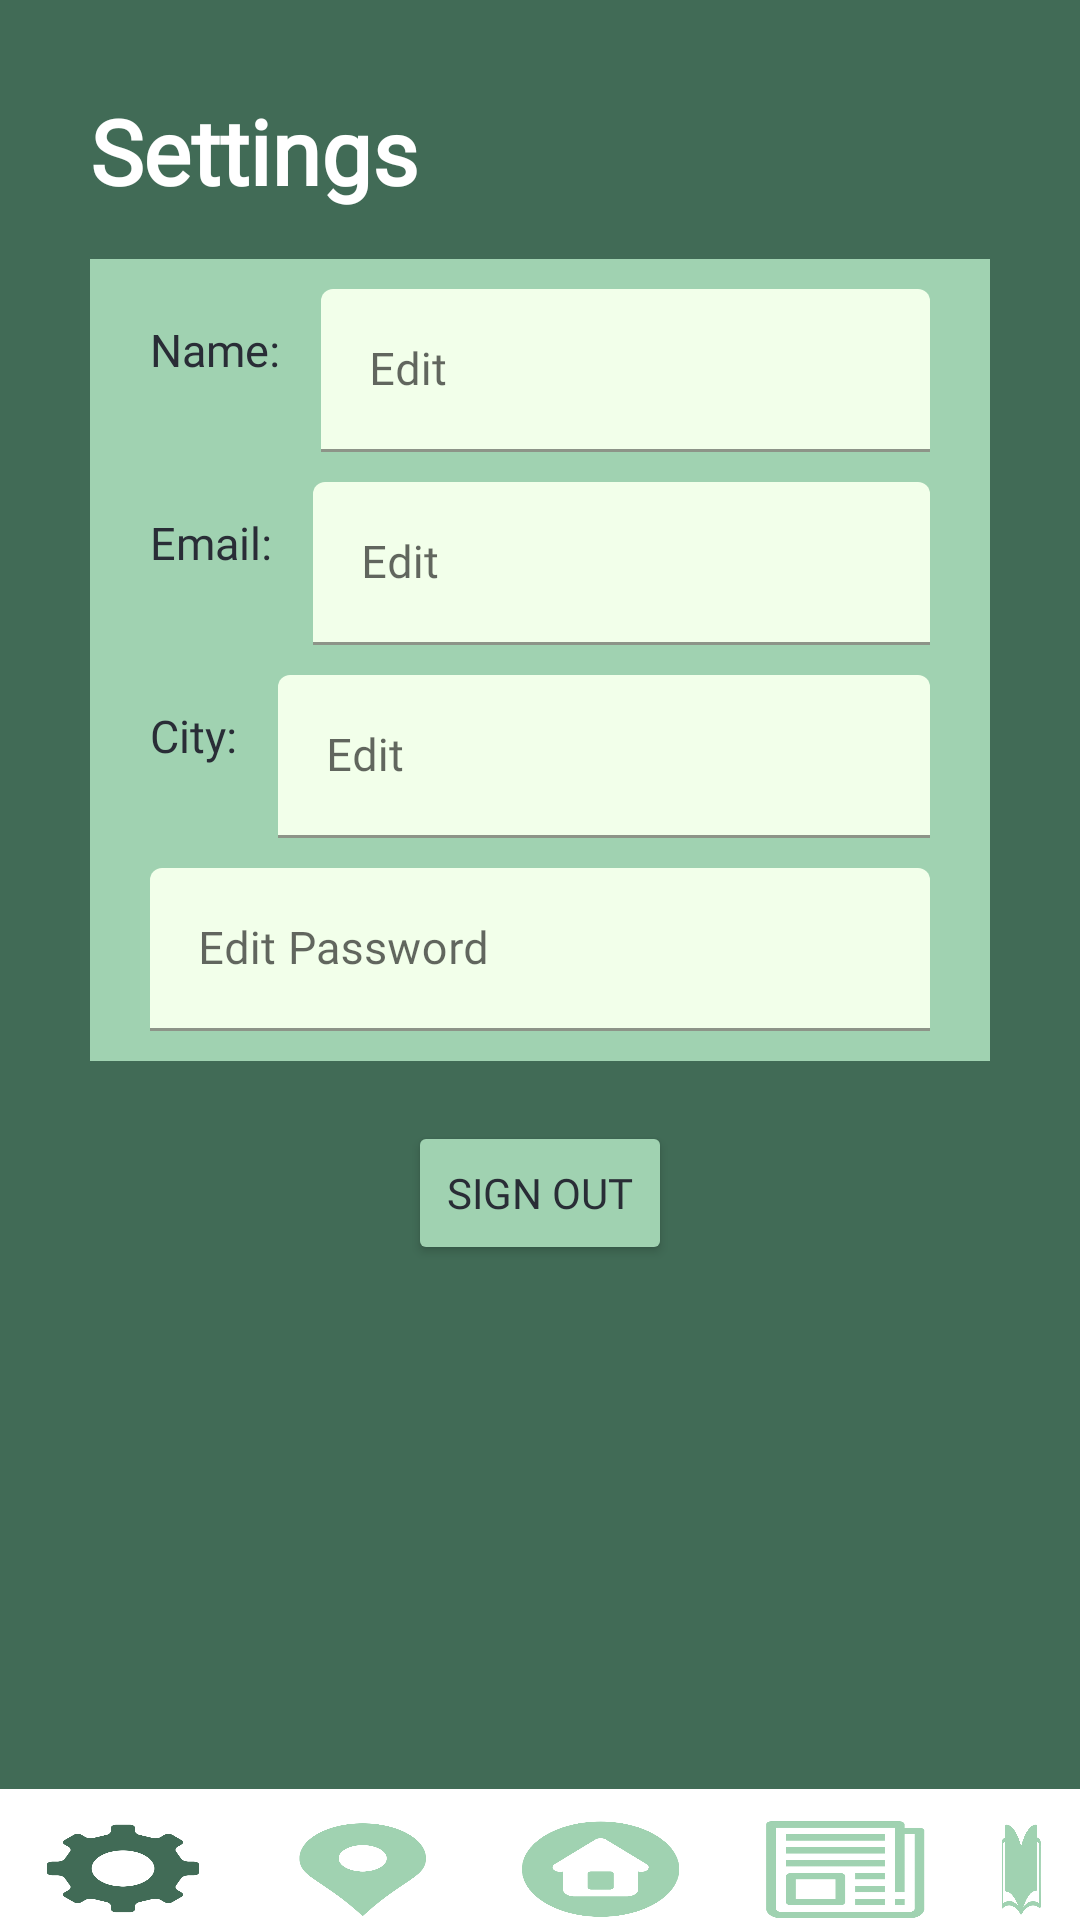

Icon bounding boxes for this 1080px×1920px phone screenshot, format (x1, y1, x2, y2):
home: (522, 1821, 679, 1917)
maps: (299, 1823, 426, 1916)
news: (766, 1821, 924, 1918)
resources: (1002, 1825, 1041, 1914)
settings: (47, 1824, 199, 1912)
